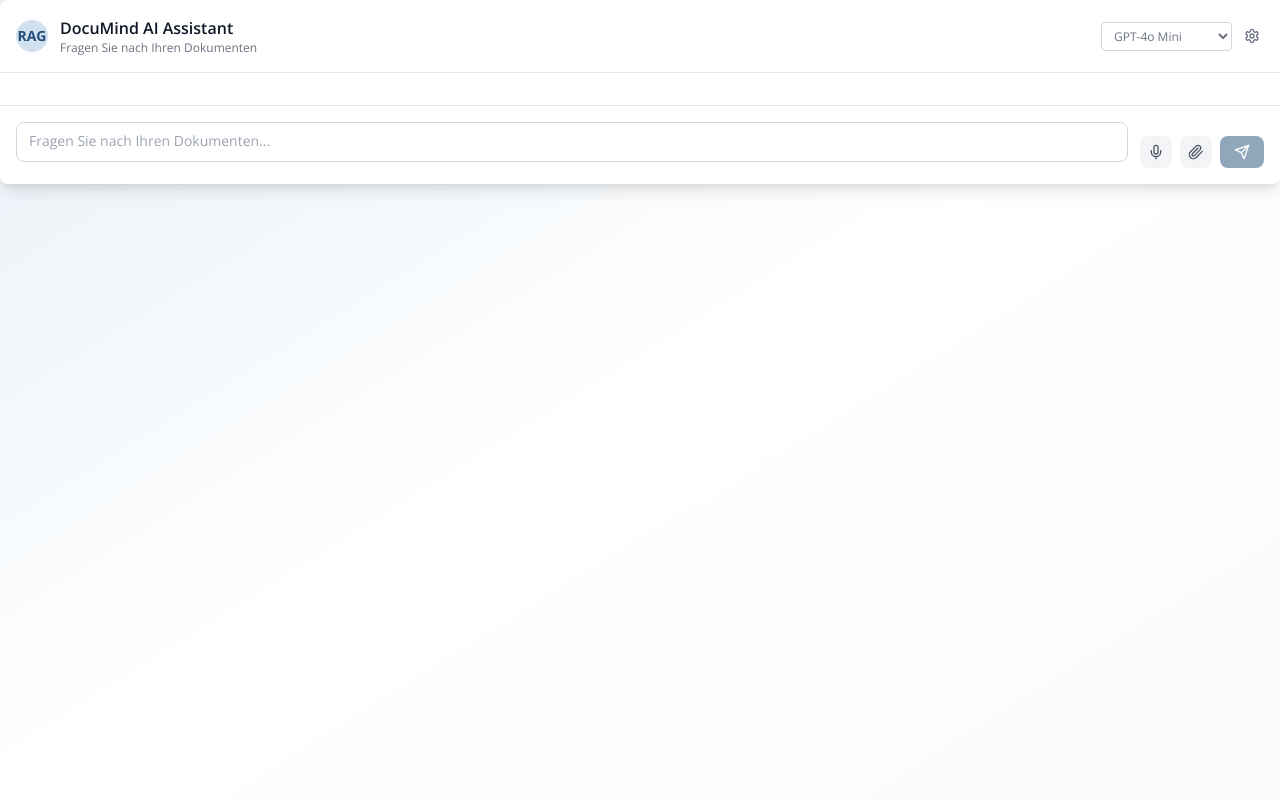
RAGChat - Extended Features › should send message on Enter key
Type "Test Frage" into the text box with placeholder "Fragen Sie nach Ihren Dokumenten...".
click(572, 142); type("Test Frage")  # box [16,122,1128,162]
Then press Enter
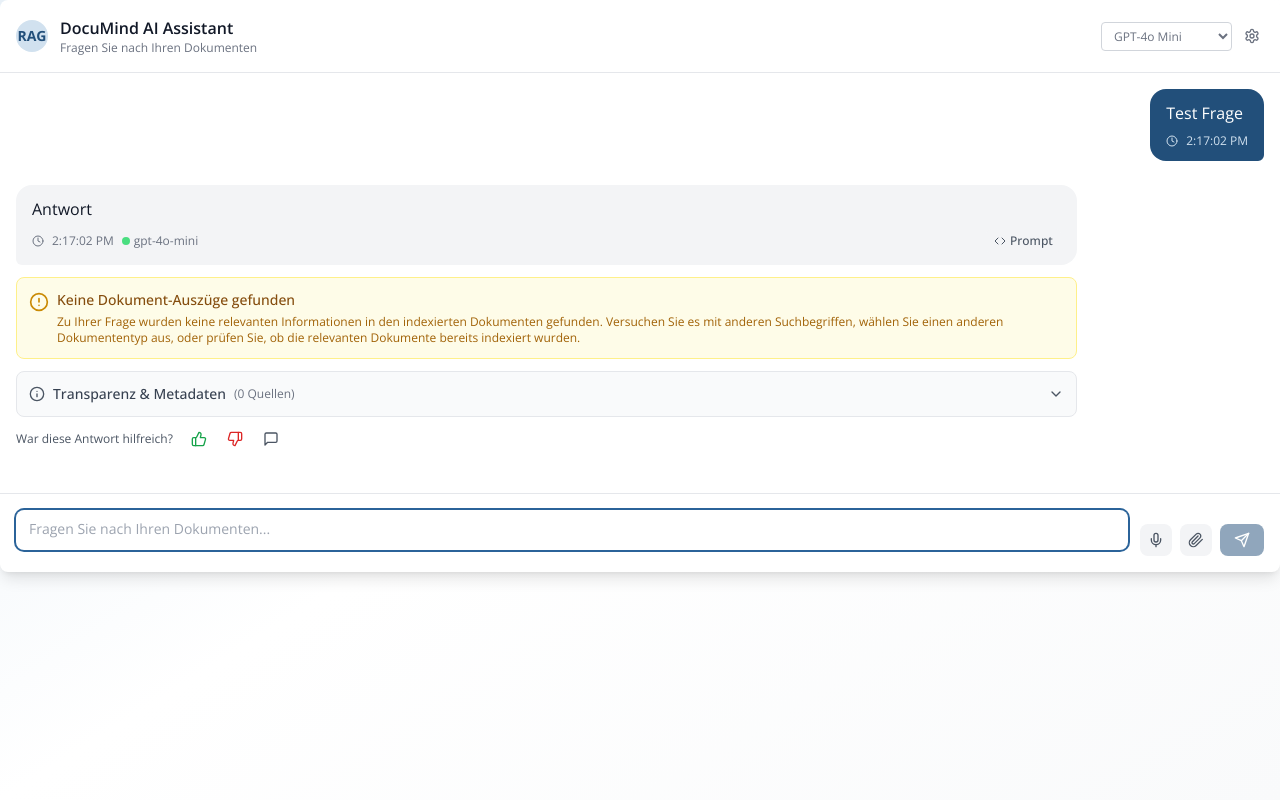
expect the text "Test Frage" is shown: met, box [1166,101,1248,125]
